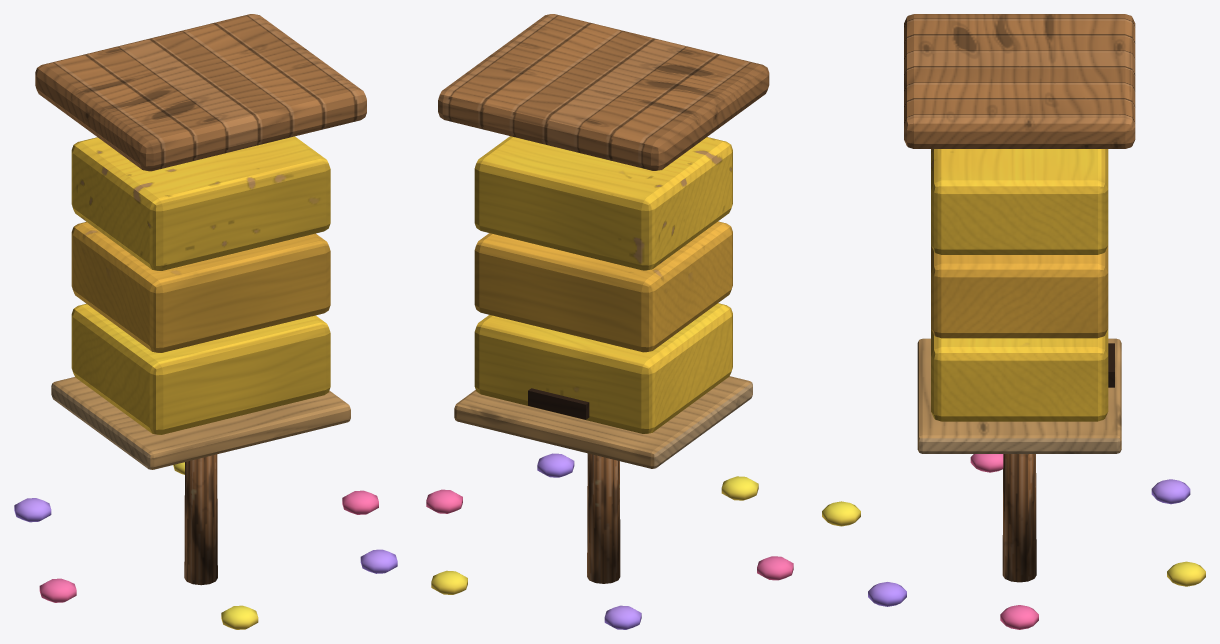
Rendered from beehive.glb.
3 renders of one model, left to right at view 1: azimuth 30°, elevation 25°; view 2: azimuth 150°, elevation 25°; view 3: azimuth 270°, elevation 25°, orthographic.
Visible parts, largest first — view 1: Beehive; view 2: Beehive; view 3: Beehive.
Part boxes in pixels (box(x1,y1,x2,y2)): Beehive: box(14, 14, 397, 629); Beehive: box(426, 14, 793, 629); Beehive: box(822, 14, 1205, 629).
Bounding box in the file's own units: 1.21 × 1.65 × 1.13.
1 material, 1 textured.
